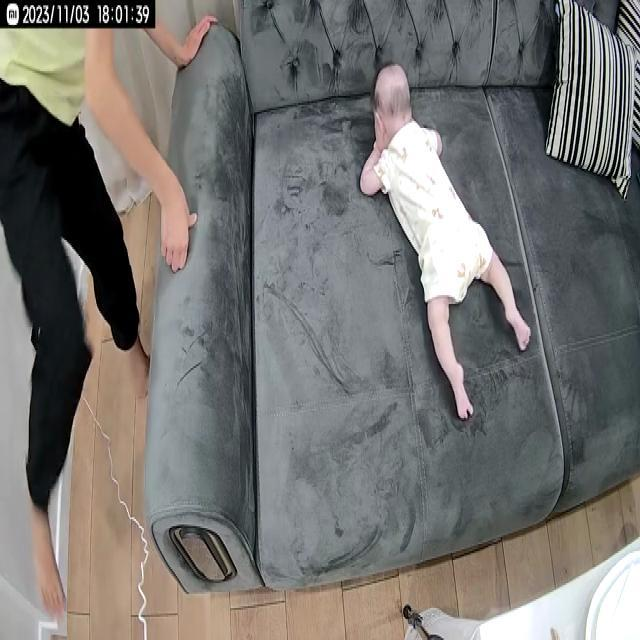baby: (357, 62, 532, 426)
